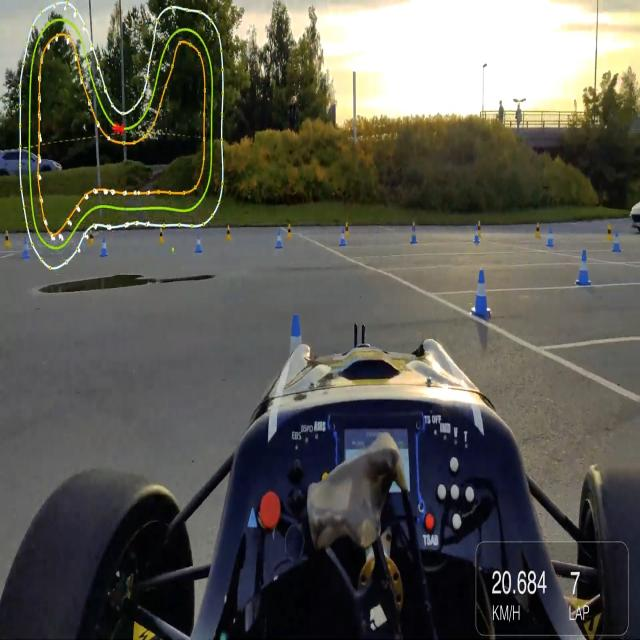blue_cone: (283, 310, 312, 407), (468, 266, 494, 322), (573, 246, 591, 288), (613, 228, 622, 255), (22, 236, 32, 260), (194, 231, 203, 256), (100, 236, 109, 258), (547, 226, 555, 248), (276, 229, 283, 251), (473, 224, 480, 244), (411, 226, 418, 246), (340, 227, 347, 247)
yellow_cone: (4, 227, 12, 250), (158, 226, 166, 248), (606, 221, 613, 246), (225, 222, 233, 243), (410, 220, 418, 240), (88, 227, 95, 249), (535, 219, 542, 239), (476, 219, 483, 239), (344, 219, 351, 239), (286, 221, 293, 241)
